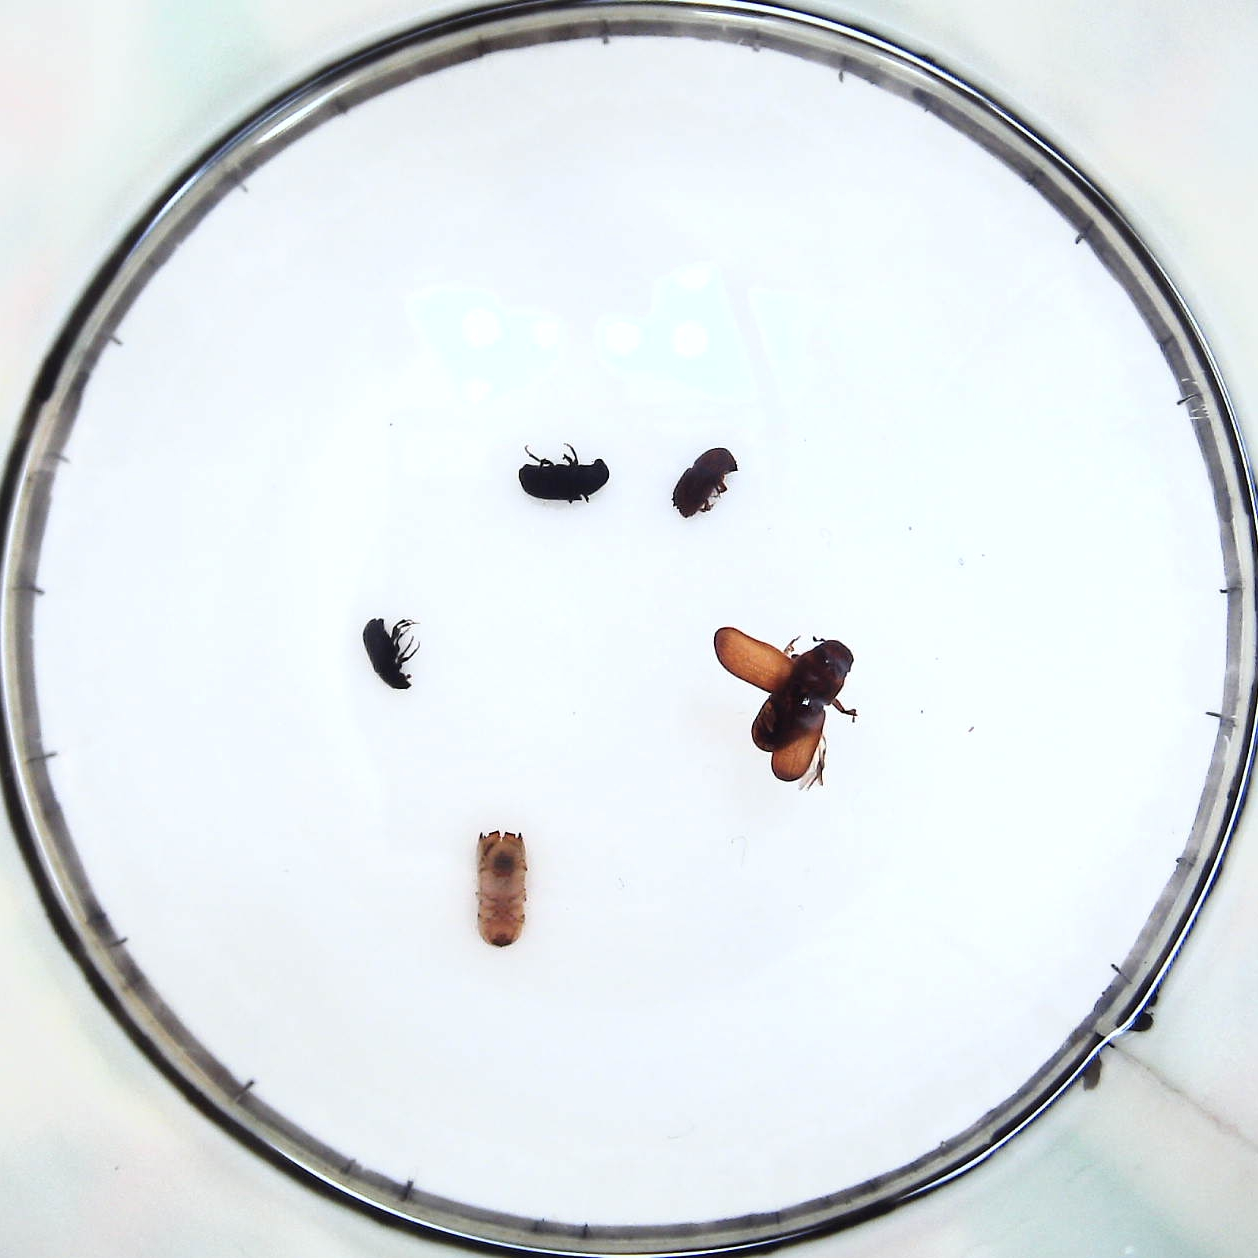Boerner: (471, 828, 535, 948)
Leconte: (713, 624, 855, 793)
Linnaeus: (675, 446, 740, 516)
armandi: (517, 446, 611, 507)
coleoptera: (358, 613, 420, 688)
